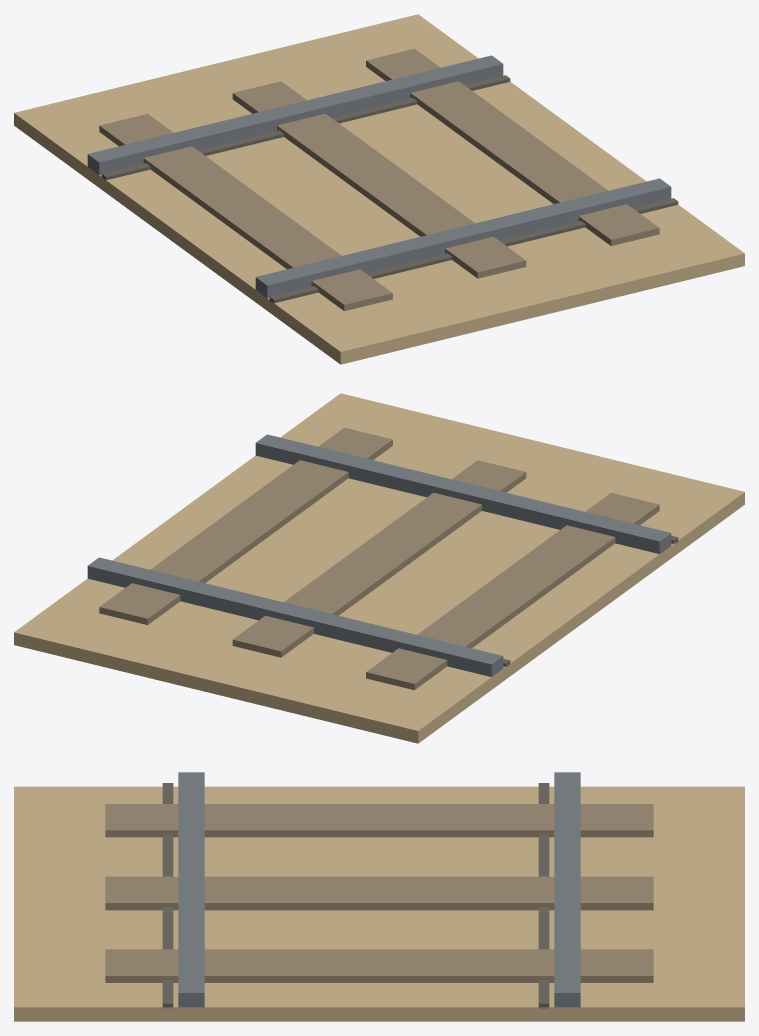
File: tram_track.glb
The picture shows the model from 3 angles, top to bottom: view 1: azimuth 30°, elevation 25°; view 2: azimuth 150°, elevation 25°; view 3: azimuth 270°, elevation 25°; orthographic projection. The views are drawn at different scales.
Parts seen in each view (by area): view 1: track; view 2: track; view 3: track.
Boxes of the visible parts, x1,y1,x2,y2 form: track: (14, 14, 744, 364); track: (14, 393, 744, 743); track: (14, 772, 744, 1021).
Size of the model in its own units: 2 by 0.12 by 2.8.
